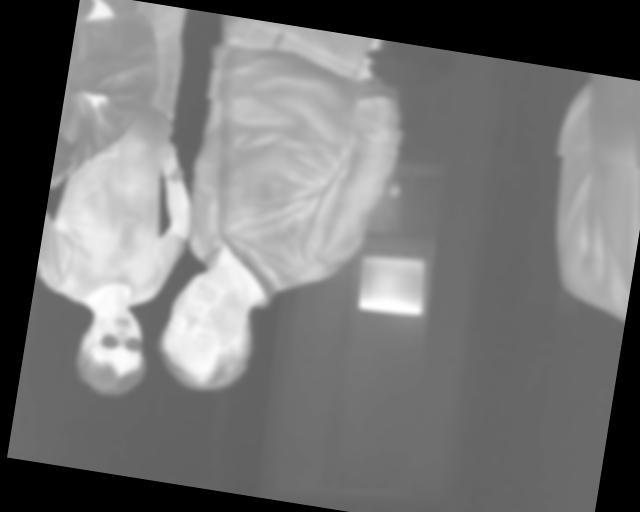face: (152, 263, 263, 398), (70, 301, 154, 402)
